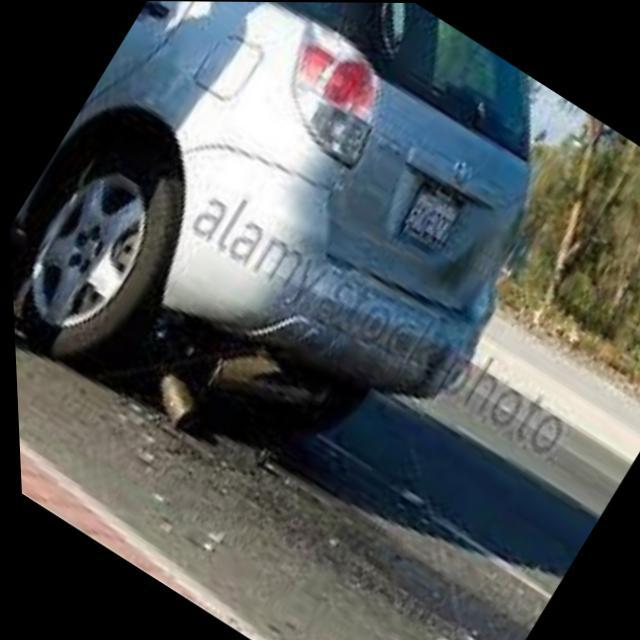crack: (405, 234, 494, 391)
